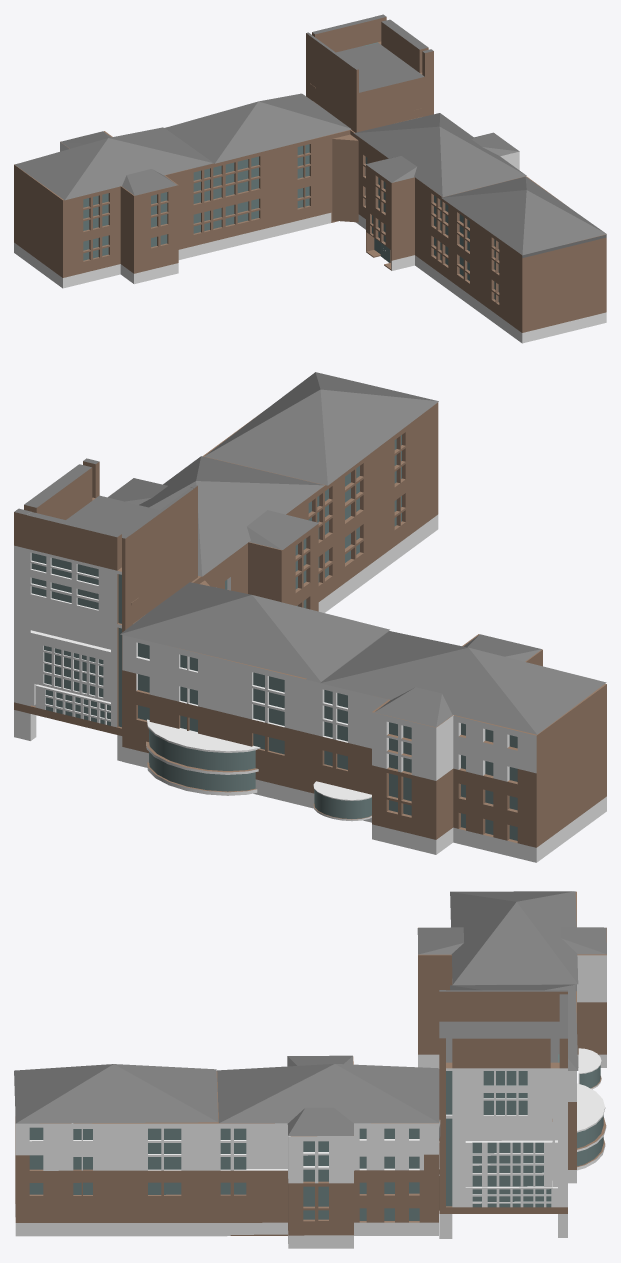
File: ScotlandTextured.fbx
3 views of the same model, one above another, from view 1: azimuth 30°, elevation 25°; view 2: azimuth 150°, elevation 25°; view 3: azimuth 270°, elevation 25° (orthographic). The views are drawn at different scales.
Parts seen in each view (by area): view 1: pPlane4; view 2: pPlane4; view 3: pPlane4.
Part boxes in pixels (<box>): pPlane4: <box>14,14,606,343</box>; pPlane4: <box>14,372,606,862</box>; pPlane4: <box>14,891,606,1248</box>.
Bounding box in the file's own units: 458 × 175 × 470.
